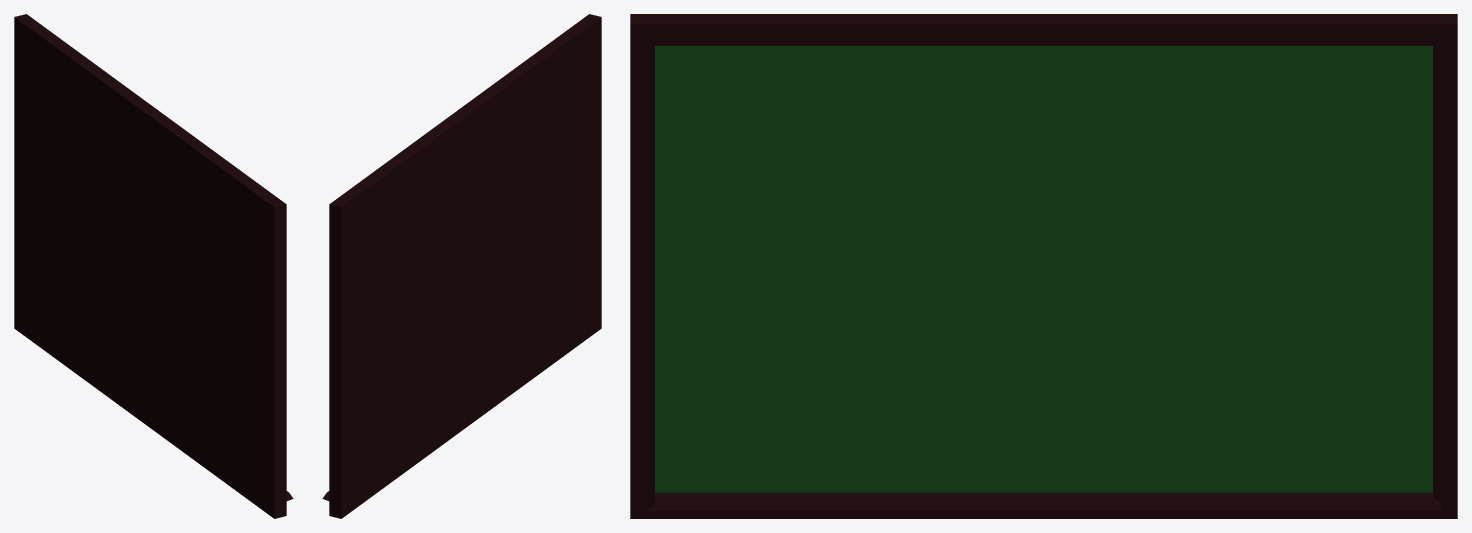
The model's file is chalkboard.fbx.
3 views of the same model, side by side, from view 1: azimuth 30°, elevation 25°; view 2: azimuth 150°, elevation 25°; view 3: azimuth 270°, elevation 25° (orthographic). The views are drawn at different scales.
Visible parts, largest first — view 1: Chalkboard; view 2: Chalkboard; view 3: Chalkboard.
Boxes of the visible parts, x1,y1,x2,y2 form: Chalkboard: (14,14,293,518); Chalkboard: (322,14,601,518); Chalkboard: (630,14,1457,518).
Size of the model in its own units: 15.92 by 197 by 297.
